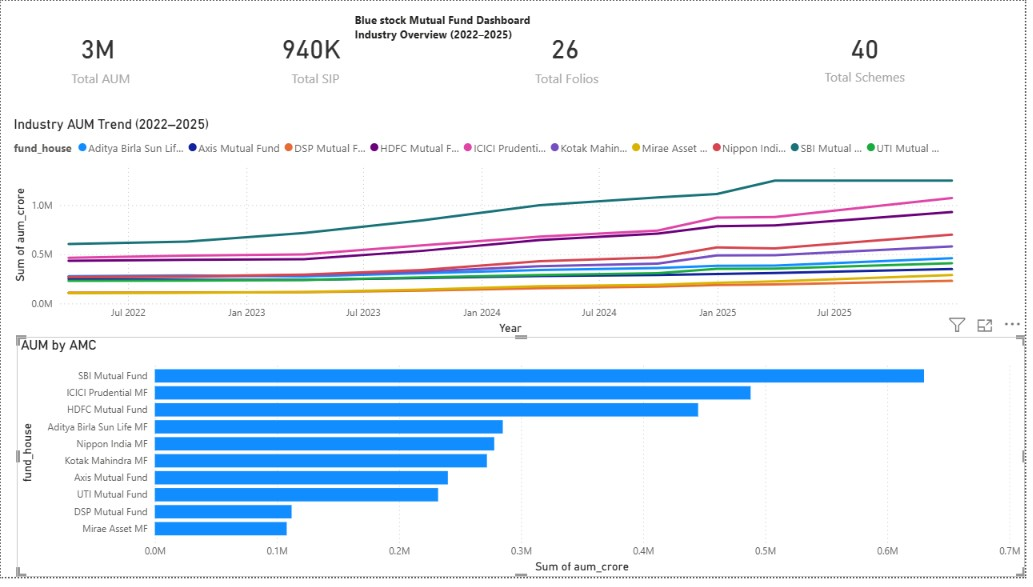

The dashboard page shown, as its layout file describes it:
{"tool":"powerbi","page":{"name":"Page 1","canvas":[1280,720],"ordinal":0},"visuals":[{"type":"advanceCardE03760C5AB684758B56AA29F9E6C257B","fields":{"mainMeasure":["03_aum_by_fund_house.Total AUM"]},"box":[0,0,250,143.3],"z":1},{"type":"advanceCardE03760C5AB684758B56AA29F9E6C257B","fields":{"mainMeasure":["04_monthly_sip_inflows.Total SIP"]},"box":[250,0,286.7,143.3],"z":2},{"type":"advanceCardE03760C5AB684758B56AA29F9E6C257B","fields":{"mainMeasure":["06_industry_folio_count.Total Folios"]},"box":[536.7,0,343.3,143.3],"z":3},{"type":"advanceCardE03760C5AB684758B56AA29F9E6C257B","fields":{"mainMeasure":["01_fund_master.Total Schemes"]},"box":[880,0,400,143.3],"z":4},{"type":"lineChart","title":"Industry AUM Trend (2022–2025)","fields":{"Y":["Sum(03_aum_by_fund_house.aum_crore)"],"Series":["03_aum_by_fund_house.fund_house"],"Category":["03_aum_by_fund_house.date.Variation.Date Hierarchy.Year","03_aum_by_fund_house.date.Variation.Date Hierarchy.Quarter","03_aum_by_fund_house.date.Variation.Date Hierarchy.Month","03_aum_by_fund_house.date.Variation.Date Hierarchy.Day"]},"box":[11.7,143.3,1205,278.3],"z":5},{"type":"barChart","title":"AUM by AMC","fields":{"Category":["03_aum_by_fund_house.fund_house"],"Y":["Sum(03_aum_by_fund_house.aum_crore)"]},"box":[20,420,1260,300],"z":6},{"type":"textbox","box":[437.1,10,232.9,51.4],"z":7}]}

Visuals, with their boxes in screenshot pixels (x1, y1, x2, y2), scaled from the page's 1280x720 canvas onto the 1033x587 screenshot:
advanceCardE03760C5AB684758B56AA29F9E6C257B - 03_aum_by_fund_house.Total AUM: box=[0, 0, 202, 117]
advanceCardE03760C5AB684758B56AA29F9E6C257B - 04_monthly_sip_inflows.Total SIP: box=[202, 0, 433, 117]
advanceCardE03760C5AB684758B56AA29F9E6C257B - 06_industry_folio_count.Total Folios: box=[433, 0, 710, 117]
advanceCardE03760C5AB684758B56AA29F9E6C257B - 01_fund_master.Total Schemes: box=[710, 0, 1032, 117]
"Industry AUM Trend (2022–2025)" lineChart: box=[9, 117, 982, 344]
"AUM by AMC" barChart: box=[16, 342, 1032, 586]
textbox: box=[353, 8, 541, 50]
